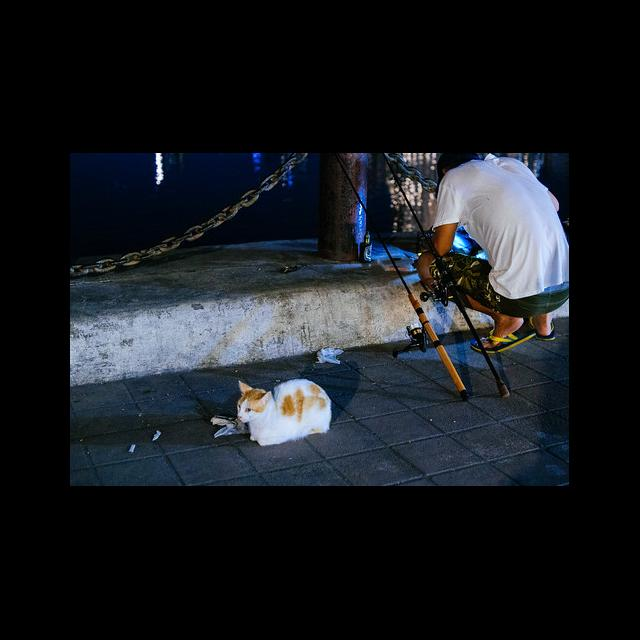animals: (236, 378, 333, 447)
